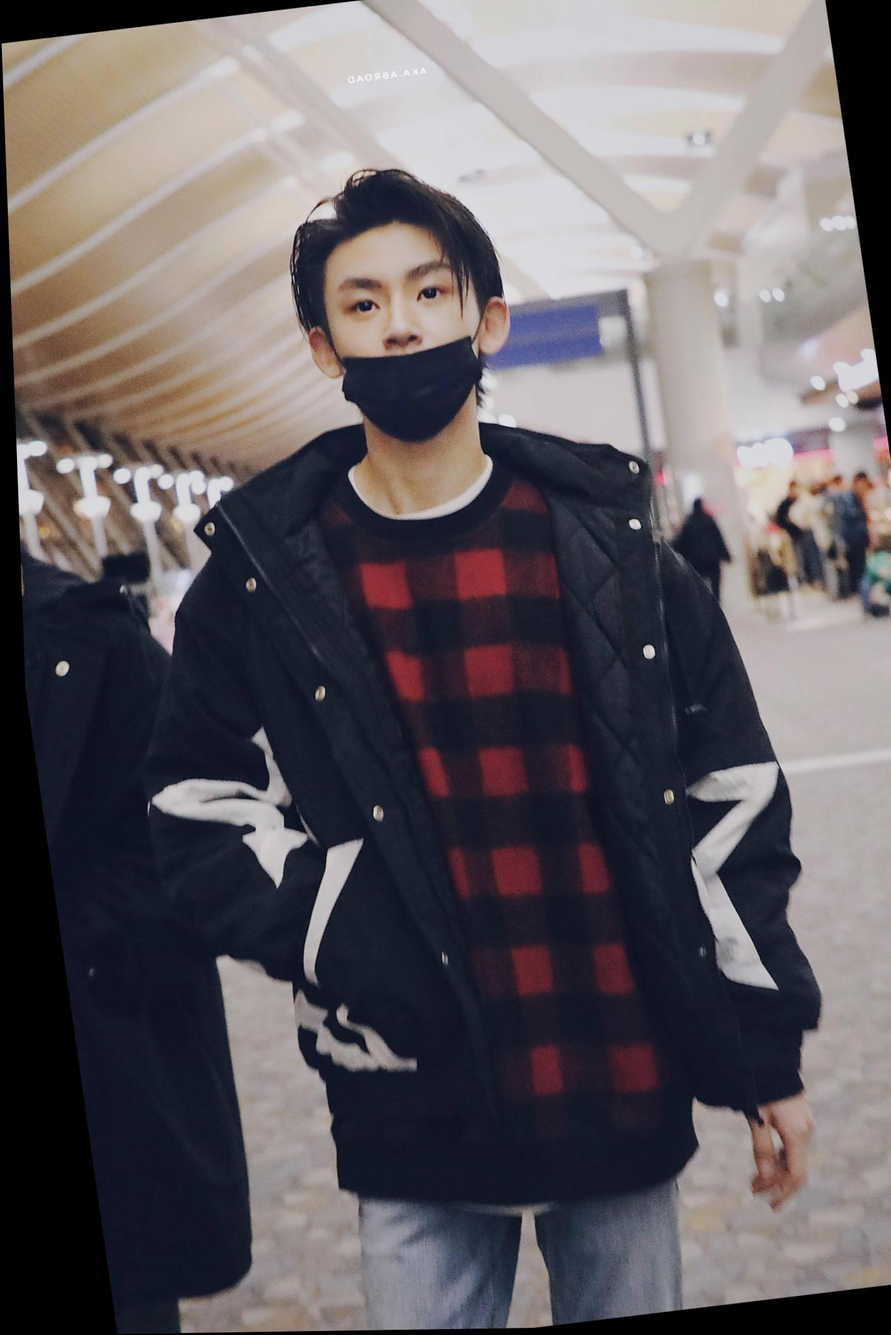WRONG: (317, 239, 491, 447)
